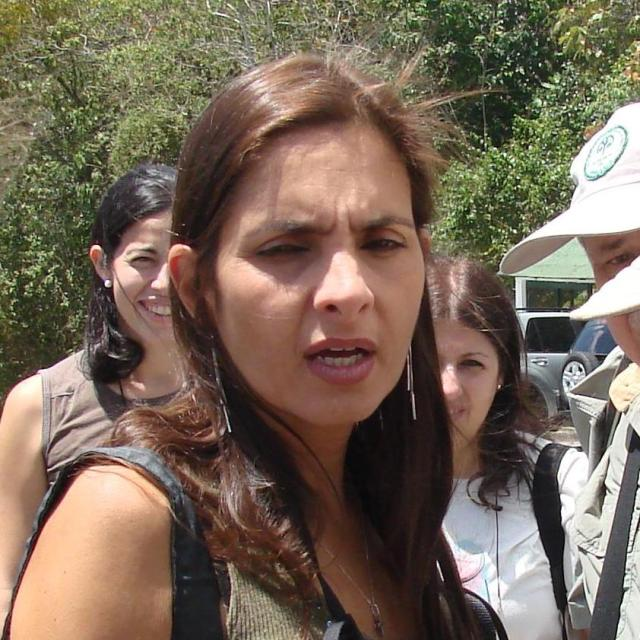no-glass: (250, 233, 405, 263)
